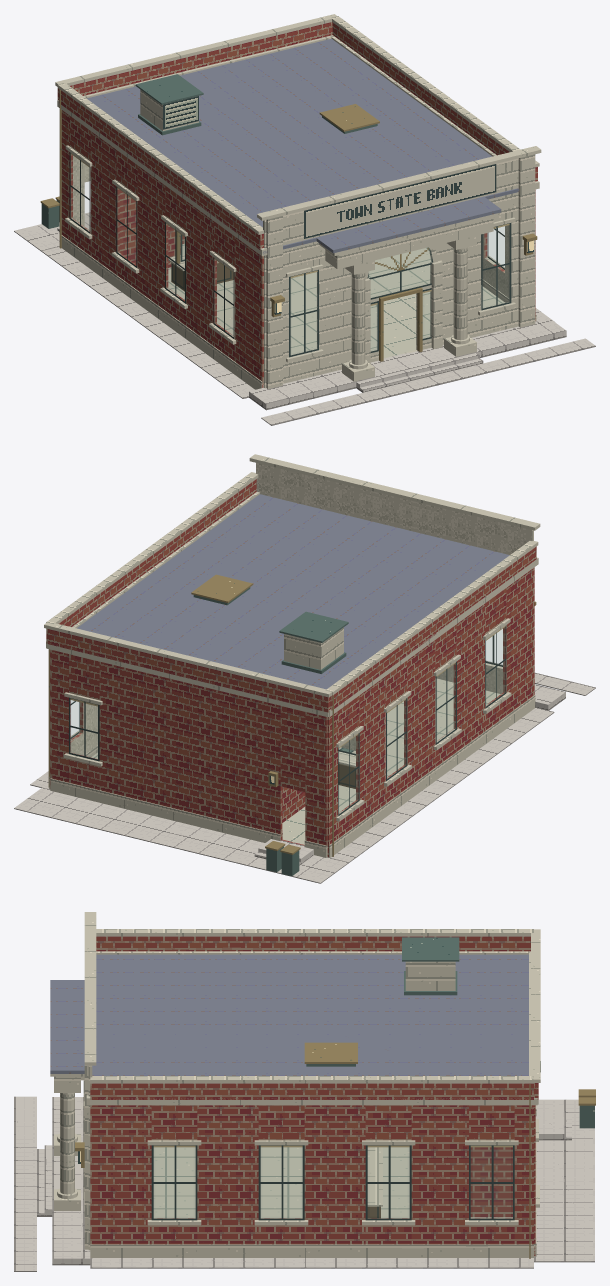
Rendered from small-town-bank-1920s.glb.
The picture shows the model from 3 angles, top to bottom: view 1: azimuth 30°, elevation 25°; view 2: azimuth 150°, elevation 25°; view 3: azimuth 270°, elevation 25°; orthographic projection. The views are drawn at different scales.
Visible parts, largest first — view 1: structure__wall_stone, structure__roof_membrane, structure__wall_brick, structure__glass_bank, lot__ground_paving, structure__ground_floor, structure__ground_paving, sign_name, structure__detail_bronze, structure__detail_steel, structure__detail_panels; view 2: structure__wall_brick, structure__roof_membrane, structure__wall_stone, lot__ground_paving, structure__glass_bank, structure__ground_floor, structure__detail_bronze, structure__detail_steel, structure__ground_paving; view 3: structure__wall_brick, structure__roof_membrane, structure__wall_stone, lot__ground_paving, structure__glass_bank, structure__ground_floor, structure__ground_paving, structure__detail_steel, structure__detail_bronze.
Boxes of the visible parts, x1,y1,x2,y2 form: structure__wall_stone: (55,14,541,389); structure__roof_membrane: (87,38,519,254); structure__wall_brick: (57,22,537,387); structure__glass_bank: (69,152,511,357); lot__ground_paving: (14,212,595,425); structure__ground_floor: (168,243,504,358); structure__ground_paving: (57,220,566,410); sign_name: (304,164,496,238); structure__detail_bronze: (59,90,537,361); structure__detail_steel: (135,74,377,135); structure__detail_panels: (163,96,234,291); structure__wall_brick: (46,479,536,857); structure__roof_membrane: (77,494,509,689); structure__wall_stone: (44,454,540,857); lot__ground_paving: (14,660,595,883); structure__glass_bank: (69,625,506,815); structure__ground_floor: (91,678,500,845); structure__detail_bronze: (48,574,536,856); structure__detail_steel: (193,587,348,673); structure__ground_paving: (254,684,565,865); structure__wall_brick: (90,936,538,1255); structure__roof_membrane: (50,954,528,1075); structure__wall_stone: (50,912,540,1257); lot__ground_paving: (14,1096,594,1271); structure__glass_bank: (151,1145,514,1220); structure__ground_floor: (153,1147,512,1218); structure__ground_paving: (37,1097,571,1265); structure__detail_steel: (306,937,459,1066); structure__detail_bronze: (75,1042,530,1258).
Size of what is drawn, in the model's own units: 16.76 by 8.85 by 23.63.
Materials: 12 (12 with a texture image).
